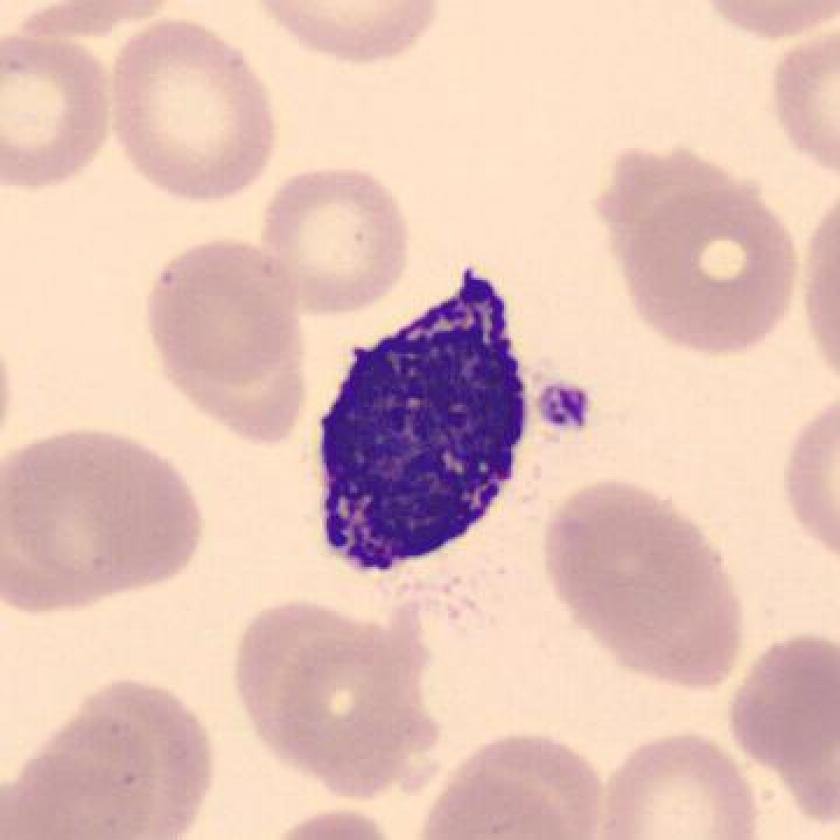basophil: (307, 256, 545, 598)
